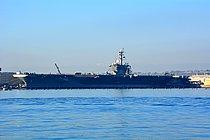MIL_Ship: (12, 48, 202, 88)
